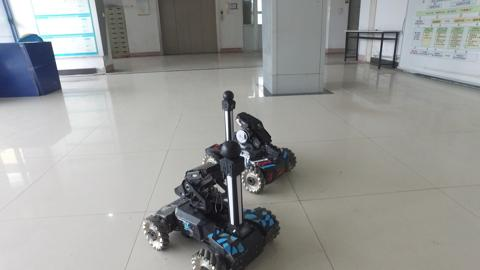chariot: (140, 137, 285, 270), (199, 89, 300, 196)
